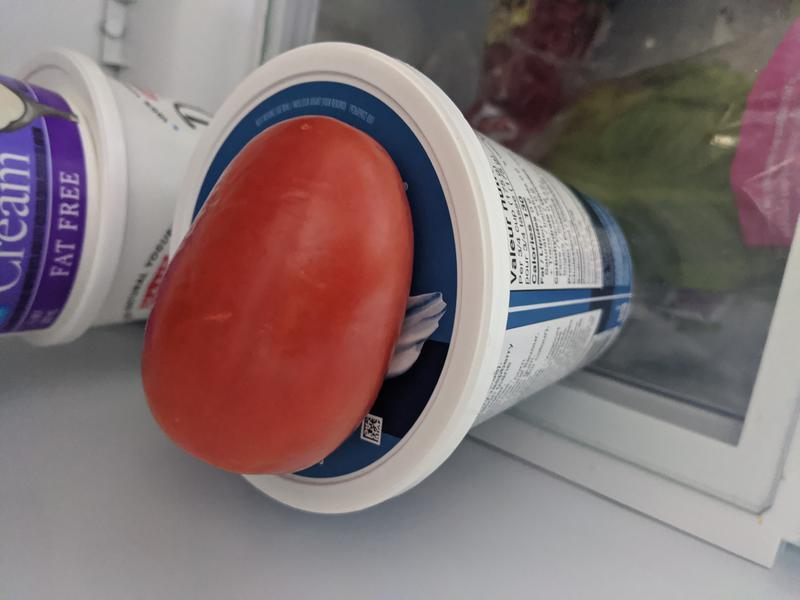tomato: (138, 113, 416, 478)
